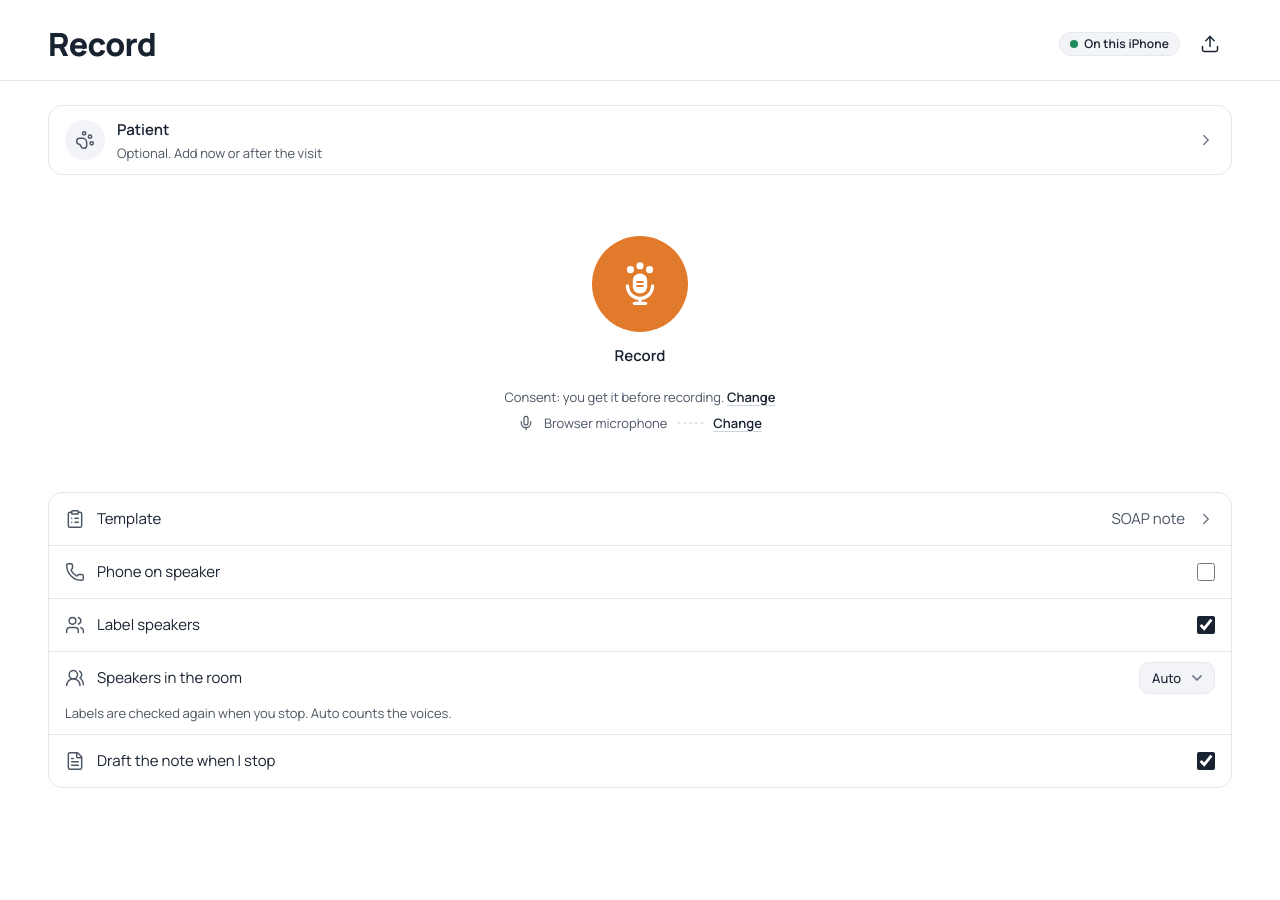
it: Record (ADR-0027) › opens a full recording screen on a phone: the time as a timer, Stop and save, no Pause
What coordinates should you click on to do the following:
click the button named "Start recording"
I would click on:
 (640, 284)
Its box is 592,236 -> 688,332.
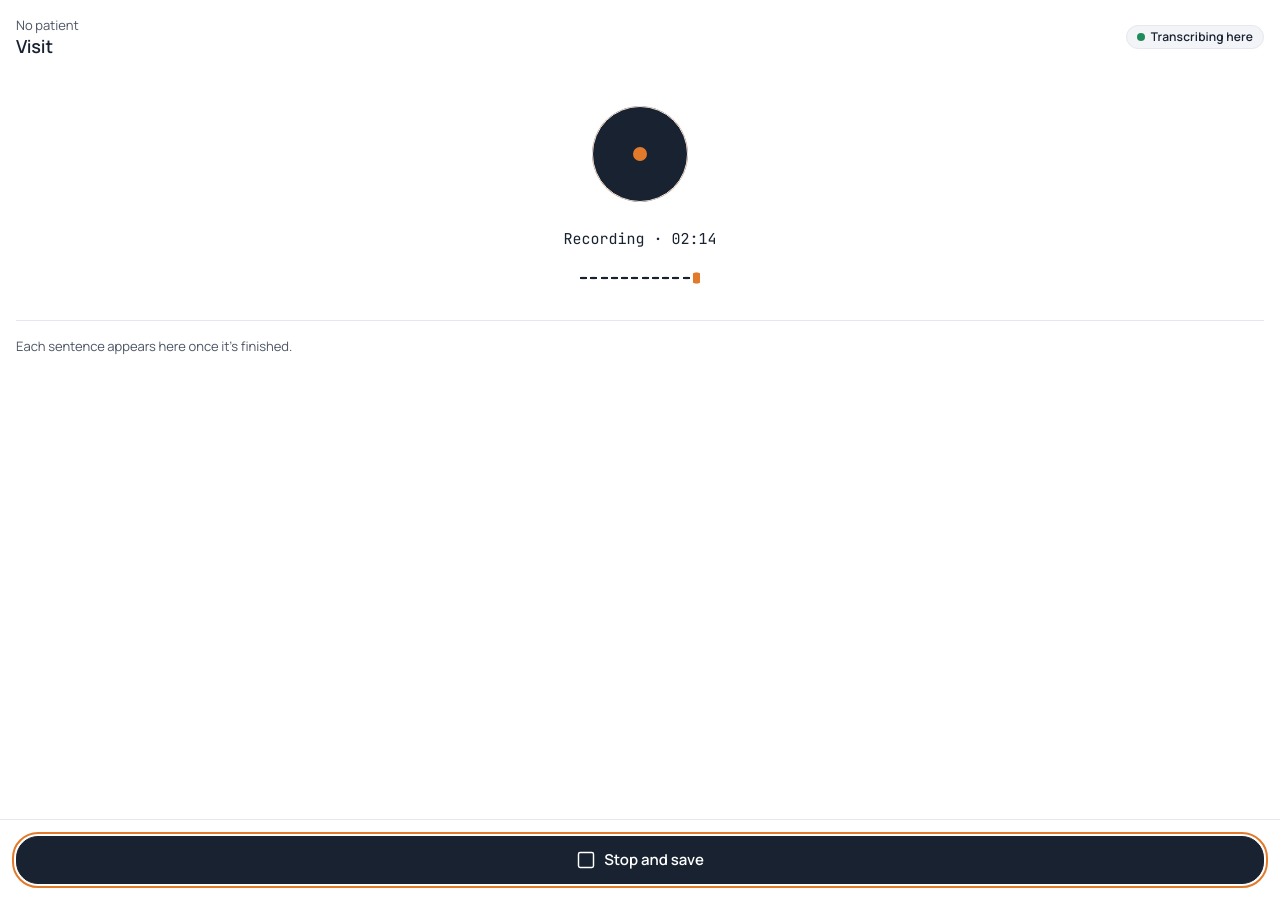
Check: the text "Recording · 02:14" is shown, box 564,226 -> 716,252
Check: the button "Stop and save" is shown, box 16,836 -> 1264,884
Check: the text "Transcribing here" is shown, box 1126,25 -> 1264,49
